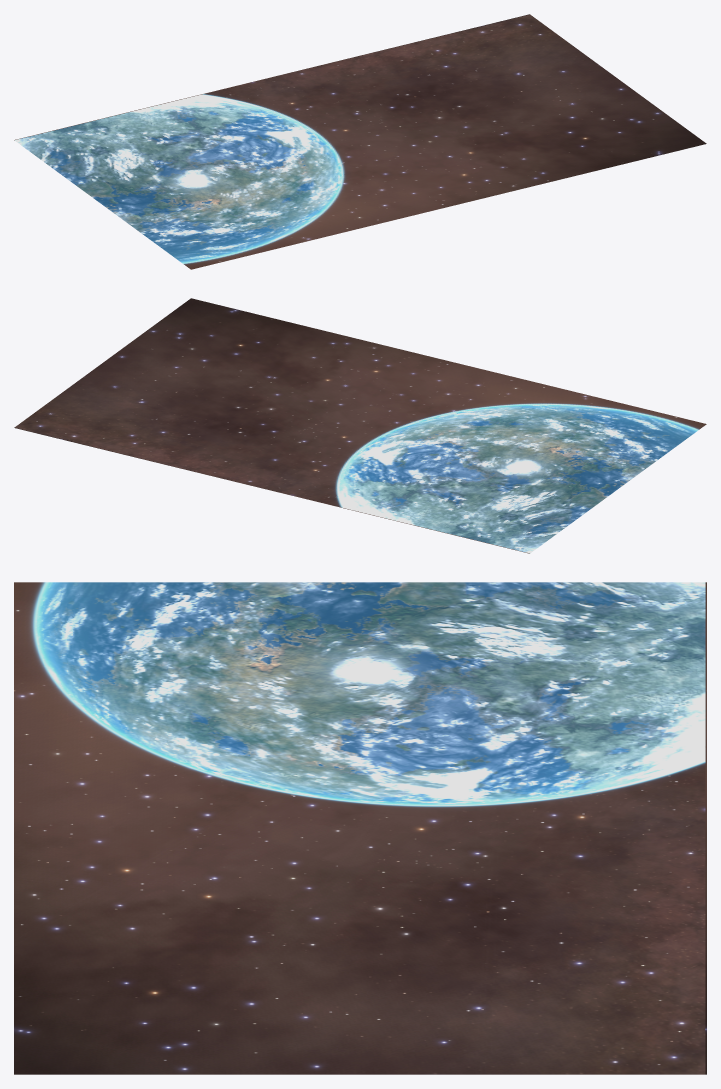
The model's file is WindowImagePlane.obj.
3 renders of one model, top to bottom at view 1: azimuth 30°, elevation 25°; view 2: azimuth 150°, elevation 25°; view 3: azimuth 270°, elevation 25°, orthographic. The views are drawn at different scales.
Parts seen in each view (by area): view 1: Background_image_Plane_Grid.001; view 2: Background_image_Plane_Grid.001; view 3: Background_image_Plane_Grid.001.
Boxes of the visible parts, left/top/right/bottom form: Background_image_Plane_Grid.001: left=14, top=14, right=706, bottom=269; Background_image_Plane_Grid.001: left=14, top=298, right=706, bottom=553; Background_image_Plane_Grid.001: left=14, top=582, right=706, bottom=1074.
Size of the model in its own units: 100 by 0 by 59.47.
Materials: 1 (1 with a texture image).
